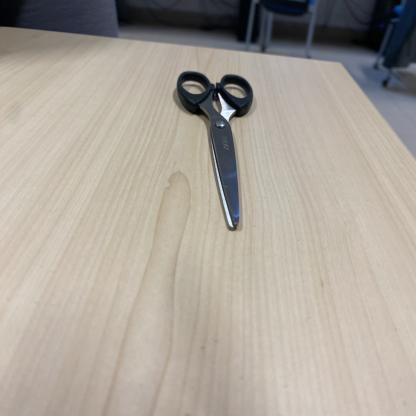scissors: (176, 71, 256, 232)
